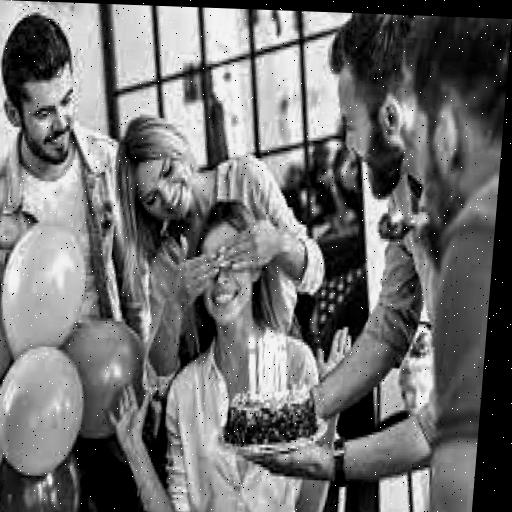balloon: (0, 224, 91, 356), (0, 349, 89, 476), (72, 319, 156, 441), (0, 454, 84, 512), (0, 271, 21, 378), (0, 378, 3, 500)
